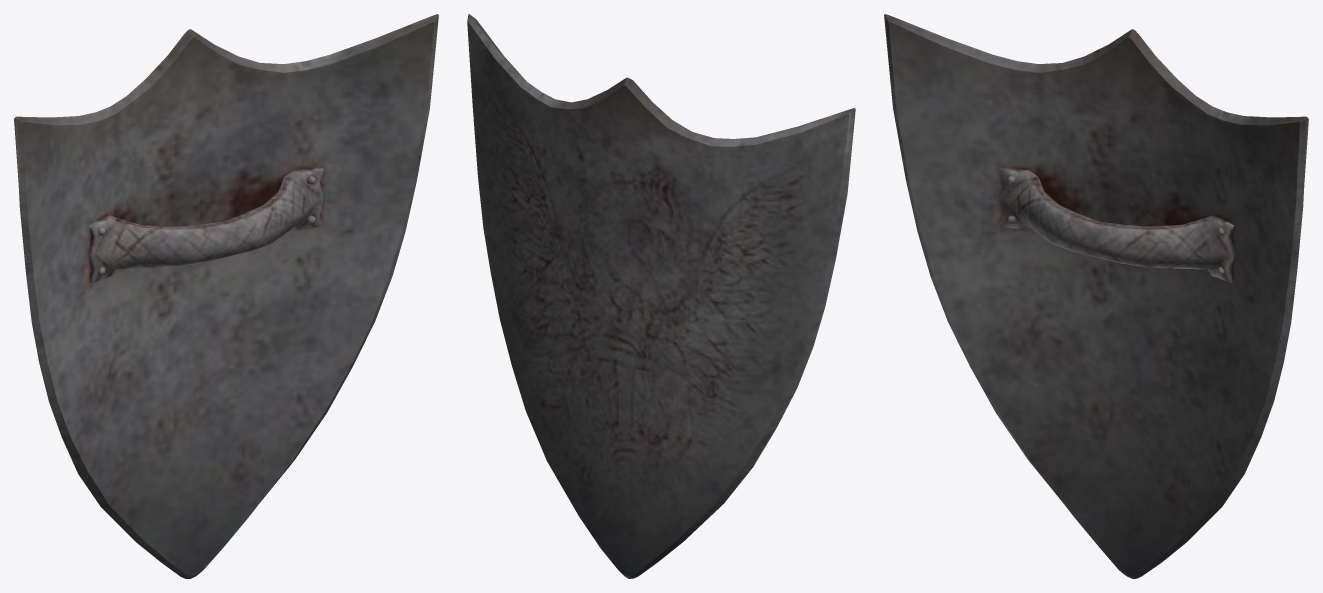
Rendered from weapon-wp_a_2033.glb.
The picture shows the model from 3 angles, left to right: view 1: azimuth 30°, elevation 25°; view 2: azimuth 150°, elevation 25°; view 3: azimuth 330°, elevation 25°; orthographic projection. The views are drawn at different scales.
Parts seen in each view (by area): view 1: wp_a_2033_mesh; view 2: wp_a_2033_mesh; view 3: wp_a_2033_mesh.
Boxes of the visible parts, x1,y1,x2,y2 form: wp_a_2033_mesh: [14, 14, 438, 578]; wp_a_2033_mesh: [467, 14, 855, 578]; wp_a_2033_mesh: [884, 14, 1308, 578].
Bounding box in the file's own units: 0.5604 × 0.694 × 0.1091.
Materials: 1 (1 with a texture image).
